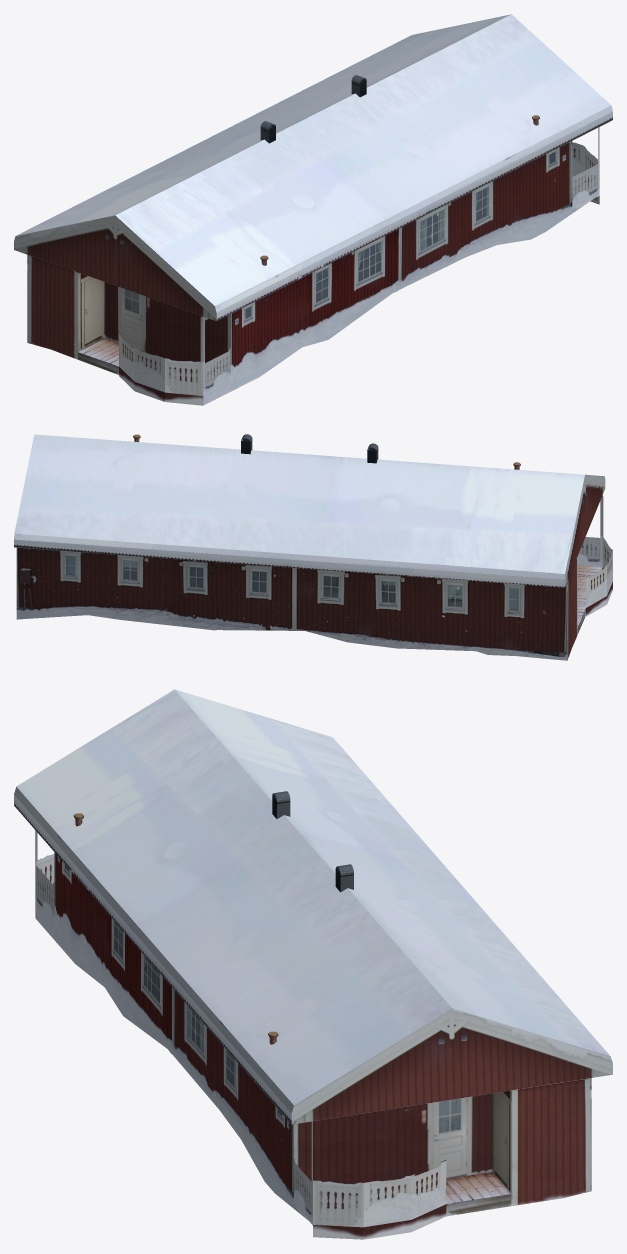
File: maison.dae
3 renders of one model, top to bottom at view 1: azimuth 30°, elevation 25°; view 2: azimuth 150°, elevation 25°; view 3: azimuth 270°, elevation 25°, orthographic. The views are drawn at different scales.
Visible parts, largest first — view 1: SketchUp (×8), Balkon (×5); view 2: SketchUp (×6), Balkon (×2); view 3: SketchUp (×8), Balkon (×4).
Boxes of the visible parts, x1=… form: SketchUp (×8): x1=14, y1=14, x2=612, y2=405; Balkon (×5): x1=119, y1=142, x2=599, y2=405; SketchUp (×6): x1=14, y1=434, x2=605, y2=660; Balkon (×2): x1=577, y1=536, x2=612, y2=607; SketchUp (×8): x1=14, y1=689, x2=612, y2=1225; Balkon (×4): x1=35, y1=862, x2=446, y2=1239.
Size of the model in its own units: 991 by 680 by 284.
40 materials, 39 textured.
